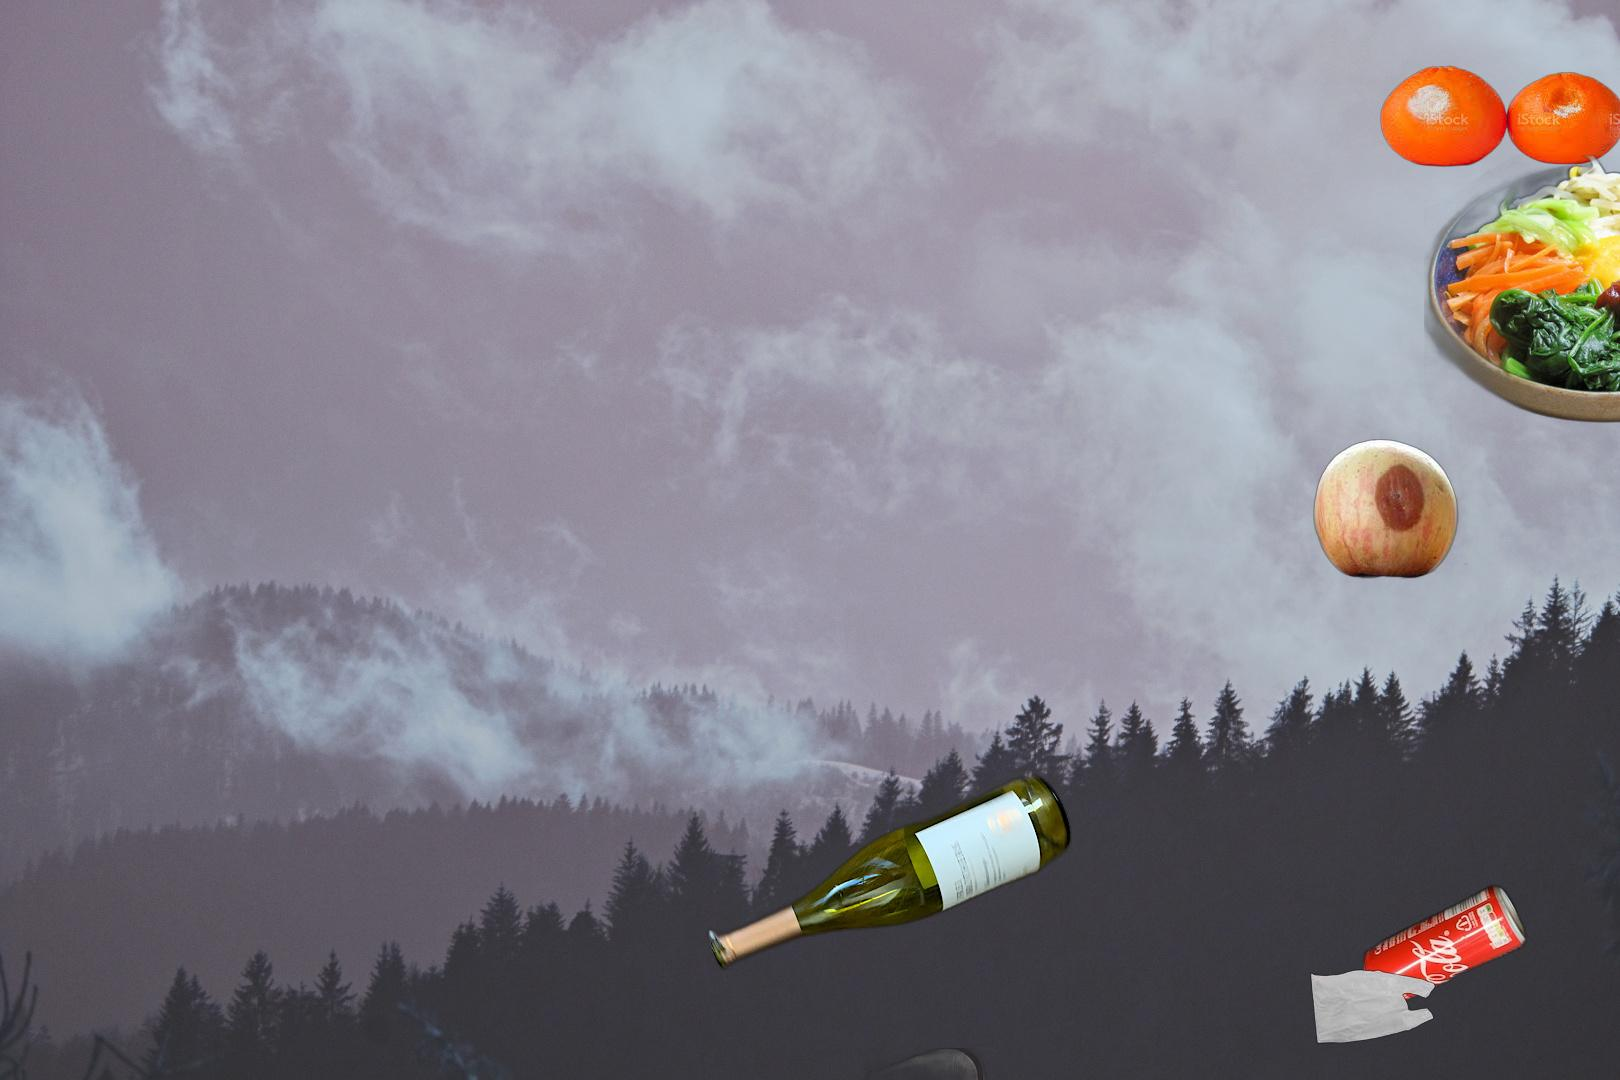biological: (1424, 155, 1620, 454), (1379, 63, 1620, 168), (1311, 424, 1460, 581)
glass: (703, 769, 1075, 975)
metal-cans: (1358, 583, 1534, 1015)
paper: (829, 1063, 1276, 1080)
plastic-bag: (1308, 967, 1438, 1047)
shoes: (775, 1047, 992, 1080)
